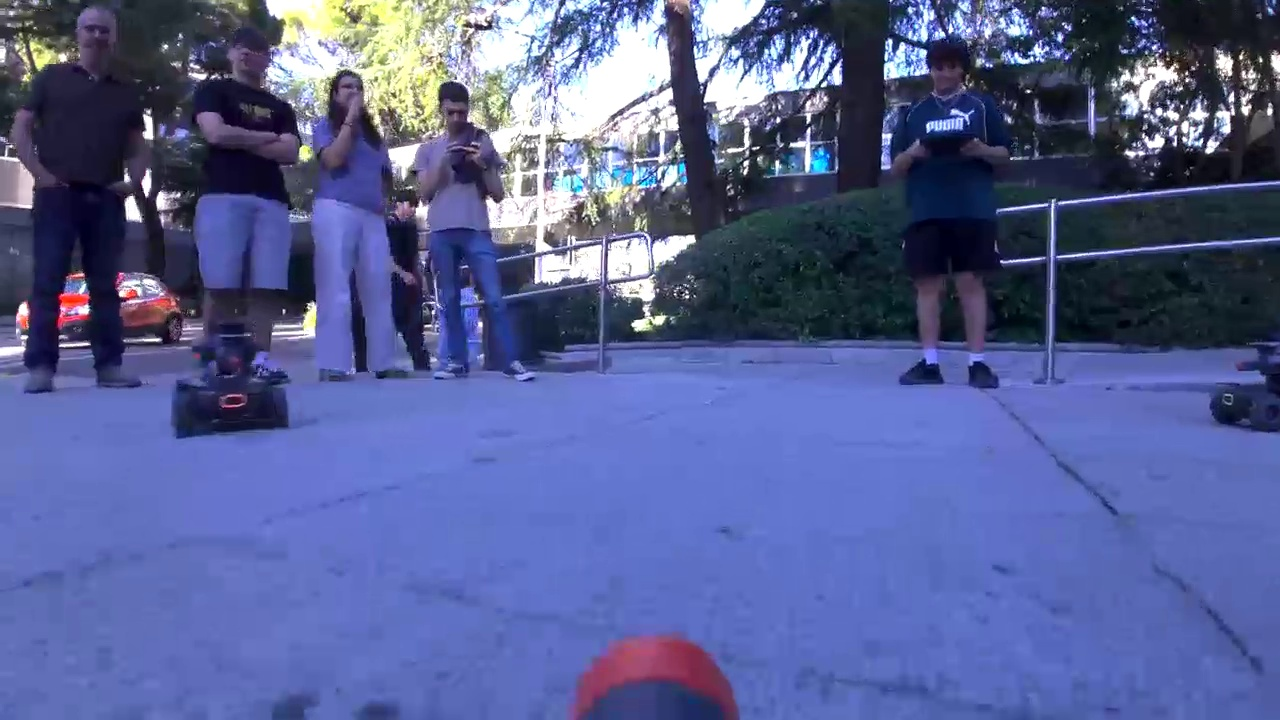robot: (166, 322, 306, 437), (1206, 326, 1280, 434)
